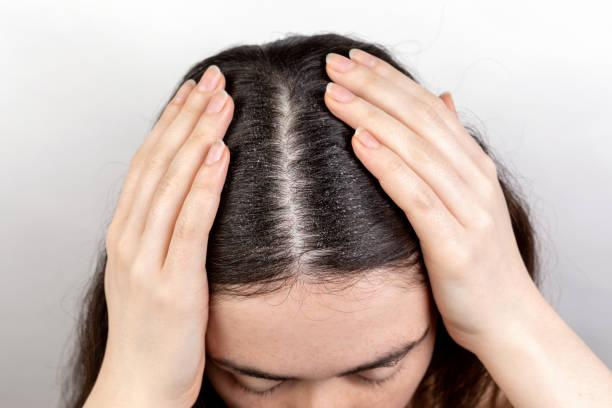dandruff: (322, 170, 366, 239), (242, 104, 278, 149), (239, 196, 254, 211)
